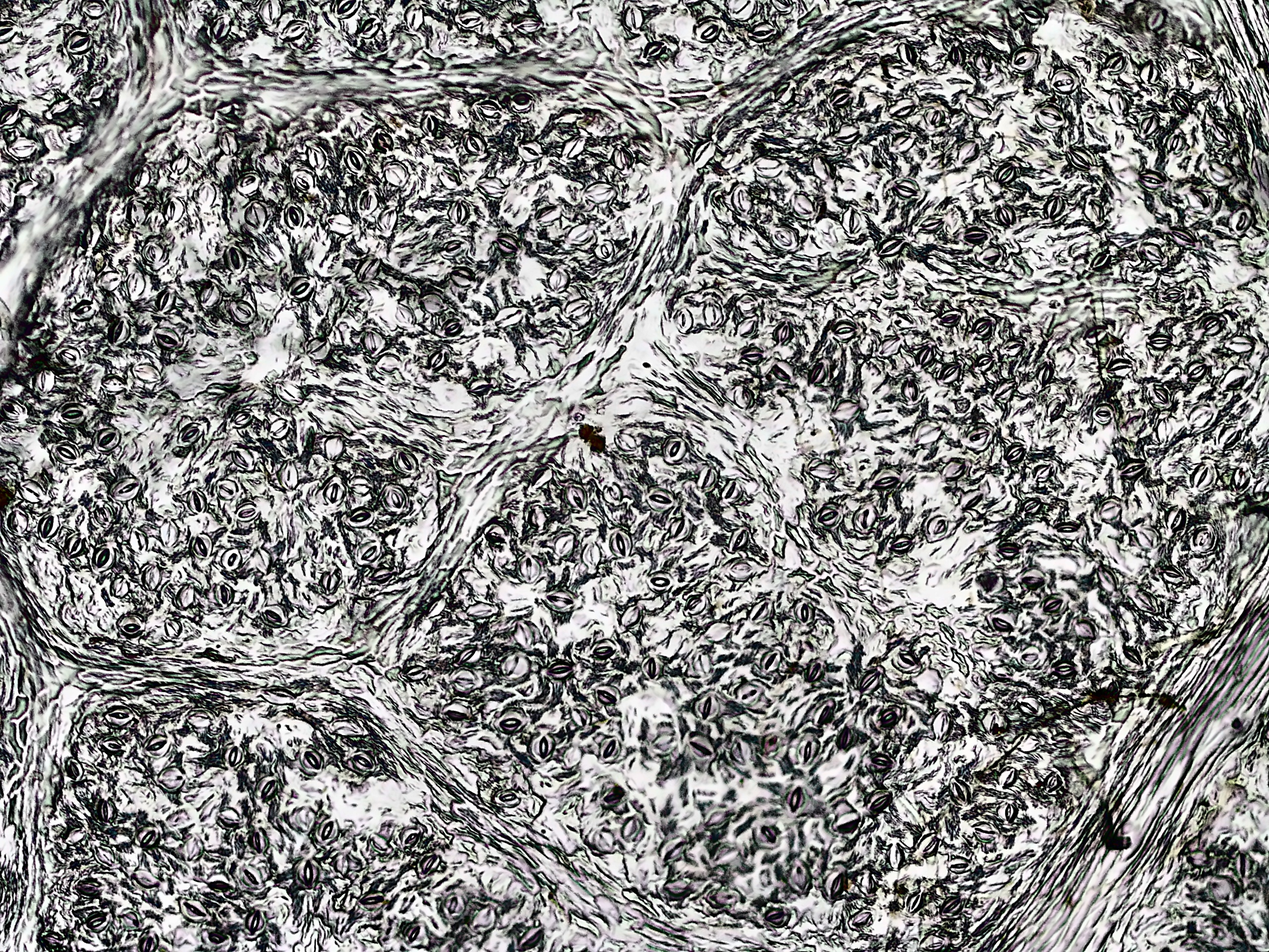stomata: (512, 924, 551, 952), (272, 378, 307, 406), (512, 553, 542, 585), (1011, 44, 1042, 74), (490, 304, 526, 329), (0, 392, 29, 423), (142, 725, 172, 754), (661, 433, 689, 464), (259, 684, 296, 707), (852, 504, 879, 535), (710, 839, 741, 866), (1131, 588, 1161, 615), (789, 858, 812, 893), (748, 21, 780, 46), (474, 177, 510, 199), (655, 834, 685, 860), (585, 178, 616, 203), (753, 153, 784, 178), (543, 590, 578, 612), (108, 478, 140, 502), (1034, 103, 1066, 127), (689, 734, 721, 758), (228, 298, 256, 325), (810, 154, 839, 180), (833, 397, 864, 421), (152, 327, 184, 350), (1189, 463, 1216, 490), (816, 500, 843, 527), (500, 653, 526, 681), (74, 876, 107, 898), (1050, 63, 1075, 92), (562, 481, 587, 510), (644, 486, 675, 509), (925, 510, 948, 541), (466, 601, 503, 620), (143, 239, 169, 266), (239, 862, 264, 890), (894, 41, 922, 66), (1222, 365, 1251, 389), (991, 536, 1020, 560), (599, 735, 623, 764), (786, 785, 810, 814), (1016, 695, 1045, 719), (179, 895, 209, 918), (1096, 497, 1126, 520), (563, 298, 594, 320), (289, 276, 315, 302), (550, 532, 576, 558), (858, 666, 883, 693), (93, 427, 121, 451), (383, 484, 407, 512), (610, 530, 634, 558), (913, 420, 941, 444), (244, 200, 267, 229), (176, 422, 205, 445), (889, 175, 918, 198), (493, 786, 523, 808), (104, 703, 135, 724), (1234, 851, 1255, 882), (357, 256, 382, 282), (1066, 145, 1092, 170), (692, 141, 717, 167), (1216, 422, 1241, 448), (809, 455, 836, 479), (6, 137, 38, 157), (418, 292, 447, 314), (132, 361, 162, 382), (131, 868, 161, 889), (394, 446, 419, 471), (668, 517, 693, 542), (1231, 207, 1255, 233), (1086, 198, 1110, 224), (937, 360, 963, 384), (1186, 404, 1212, 428), (569, 702, 593, 728), (283, 204, 306, 231), (117, 611, 144, 634), (695, 19, 722, 42), (526, 503, 549, 530), (1194, 524, 1217, 551), (966, 97, 994, 119), (437, 238, 471, 256), (373, 352, 402, 373), (325, 475, 346, 504), (93, 795, 114, 824), (832, 813, 861, 834), (871, 470, 903, 489), (1117, 459, 1149, 478), (495, 713, 527, 732), (110, 315, 130, 345), (253, 545, 273, 575), (184, 710, 214, 730), (889, 130, 919, 150), (1231, 463, 1251, 493), (1166, 503, 1186, 533), (532, 730, 552, 760), (1072, 617, 1096, 642), (622, 1, 645, 27), (956, 139, 979, 165), (1170, 90, 1192, 117), (941, 457, 968, 479), (126, 269, 147, 297), (449, 263, 477, 284), (876, 234, 904, 255), (549, 266, 570, 294), (1044, 394, 1065, 422), (445, 701, 473, 722), (198, 281, 218, 310), (1198, 312, 1227, 332), (299, 858, 319, 887), (1096, 564, 1116, 593), (263, 605, 287, 629), (593, 240, 617, 264), (720, 478, 744, 502), (463, 132, 488, 155), (161, 765, 184, 790), (701, 298, 724, 323), (967, 424, 990, 449), (652, 728, 678, 750), (165, 195, 184, 225), (1168, 228, 1198, 247), (126, 198, 147, 225), (183, 832, 204, 859), (977, 246, 1004, 267), (595, 682, 622, 703), (732, 738, 753, 765), (516, 139, 544, 159), (448, 197, 468, 225), (17, 479, 45, 499), (67, 30, 91, 53), (257, 0, 280, 24), (1041, 195, 1064, 219), (772, 321, 795, 345), (454, 667, 477, 691), (889, 532, 913, 555), (614, 142, 633, 171), (278, 458, 297, 487), (245, 907, 264, 936), (994, 162, 1016, 187), (749, 599, 774, 621), (1121, 644, 1143, 669), (868, 789, 893, 811), (101, 371, 127, 392), (61, 825, 87, 846), (582, 542, 603, 568), (1001, 442, 1027, 463), (815, 700, 836, 726), (844, 206, 861, 238), (344, 147, 364, 174), (129, 163, 149, 190), (8, 509, 28, 536), (258, 775, 278, 802), (205, 875, 235, 893), (58, 125, 86, 144), (39, 512, 58, 540), (141, 561, 160, 589), (347, 507, 375, 526), (932, 709, 951, 737), (950, 778, 969, 806), (1143, 241, 1166, 264), (924, 106, 948, 128), (529, 465, 553, 487), (728, 526, 750, 550), (707, 805, 731, 827), (384, 164, 409, 185), (71, 299, 96, 320), (1147, 5, 1168, 30), (1207, 162, 1232, 183), (760, 649, 781, 674), (1227, 335, 1256, 353), (307, 147, 327, 173), (645, 572, 672, 591), (826, 872, 845, 899), (561, 135, 583, 158), (358, 539, 380, 562), (996, 203, 1018, 226), (791, 193, 813, 216), (973, 821, 996, 843), (328, 212, 352, 233), (466, 373, 490, 394), (95, 545, 113, 573), (916, 215, 944, 233), (614, 429, 635, 453), (601, 482, 622, 506), (739, 683, 763, 704), (81, 221, 101, 246), (1187, 355, 1207, 380), (961, 225, 992, 241), (588, 641, 619, 657), (456, 9, 482, 28), (321, 568, 340, 594), (101, 734, 127, 753), (734, 382, 753, 408), (1152, 383, 1171, 409), (547, 661, 573, 680), (332, 0, 361, 17), (227, 245, 244, 274), (187, 488, 205, 515), (1161, 286, 1188, 304), (1106, 357, 1133, 375), (497, 232, 519, 254), (220, 547, 242, 569), (300, 750, 322, 772), (307, 338, 328, 361), (231, 446, 252, 469), (773, 82, 796, 103), (455, 644, 478, 665), (996, 765, 1017, 788), (941, 895, 964, 916), (54, 441, 78, 461), (438, 164, 458, 188), (829, 89, 853, 109), (810, 358, 830, 382), (994, 378, 1018, 398), (958, 487, 982, 507), (514, 619, 534, 643), (682, 594, 706, 614), (922, 932, 946, 952), (198, 179, 215, 207), (326, 433, 343, 461), (161, 518, 178, 546), (176, 581, 193, 609), (357, 891, 385, 908), (283, 20, 308, 39), (363, 330, 382, 355), (194, 533, 213, 558), (1148, 332, 1173, 351), (379, 205, 397, 231), (1139, 171, 1165, 189), (1102, 50, 1124, 71), (836, 122, 857, 144), (765, 906, 787, 927), (266, 418, 289, 438), (216, 478, 236, 501), (694, 695, 717, 715), (556, 106, 583, 123), (1054, 520, 1081, 537), (1160, 567, 1187, 584), (235, 501, 259, 520), (1109, 91, 1128, 115), (404, 663, 428, 682), (621, 603, 640, 627), (805, 658, 824, 682), (222, 743, 240, 768), (1041, 595, 1066, 613), (801, 738, 817, 766), (888, 840, 904, 868), (219, 128, 236, 154), (359, 188, 376, 214), (1138, 58, 1155, 84), (642, 653, 659, 679), (359, 15, 380, 36), (93, 844, 114, 865), (140, 931, 161, 952), (99, 271, 121, 291), (230, 408, 252, 428), (1187, 189, 1209, 209), (1093, 402, 1113, 424), (425, 597, 447, 617), (251, 828, 270, 851), (834, 322, 857, 341), (482, 524, 505, 543), (761, 821, 780, 844), (62, 406, 86, 424), (130, 526, 146, 553), (1002, 337, 1026, 355), (696, 464, 714, 488), (350, 753, 374, 771), (212, 14, 229, 39), (407, 5, 424, 30), (375, 128, 392, 153), (419, 113, 436, 138), (66, 534, 83, 559), (675, 309, 692, 334), (602, 786, 627, 803), (138, 826, 158, 847), (640, 42, 668, 57), (770, 362, 790, 383), (60, 345, 82, 364), (772, 230, 794, 249), (318, 819, 337, 841), (897, 649, 919, 668), (691, 653, 710, 675), (157, 289, 173, 315), (218, 582, 234, 608), (87, 82, 110, 100), (511, 92, 534, 110), (571, 225, 594, 243), (395, 303, 413, 326), (93, 502, 111, 525), (35, 367, 52, 391), (216, 809, 240, 826), (735, 293, 759, 310), (989, 663, 1013, 680), (735, 185, 748, 216), (1, 17, 17, 42), (86, 911, 106, 931), (938, 309, 963, 325), (973, 317, 993, 337), (1022, 569, 1042, 589), (919, 833, 939, 853), (238, 172, 259, 191), (349, 475, 370, 494), (738, 315, 757, 336), (797, 601, 816, 622), (597, 830, 616, 851), (65, 757, 83, 779), (406, 924, 424, 946), (947, 856, 969, 874), (82, 0, 105, 17), (40, 930, 63, 947), (892, 98, 915, 115), (420, 854, 437, 877), (515, 16, 541, 31), (204, 929, 228, 945), (50, 97, 70, 116), (1140, 114, 1159, 134), (1035, 462, 1054, 482), (852, 909, 871, 929), (1, 102, 19, 123), (371, 564, 392, 582), (880, 337, 898, 358), (903, 377, 918, 402), (477, 99, 499, 116), (111, 575, 128, 597), (1051, 731, 1073, 748), (540, 207, 563, 223), (907, 890, 923, 913), (1086, 324, 1105, 343), (12, 179, 36, 194), (163, 618, 181, 638), (772, 0, 796, 15), (948, 45, 963, 69), (1167, 129, 1182, 153), (665, 879, 689, 894), (1092, 250, 1109, 271), (975, 354, 996, 371), (917, 345, 934, 366), (870, 753, 892, 769), (1001, 802, 1016, 825), (1212, 123, 1230, 142), (743, 344, 762, 362), (994, 614, 1013, 632), (429, 351, 446, 371), (1022, 497, 1042, 514), (292, 174, 313, 190), (172, 153, 187, 175), (839, 725, 852, 750), (121, 911, 140, 928), (1044, 772, 1061, 791), (1039, 362, 1053, 385), (446, 895, 461, 916), (1052, 661, 1076, 674), (861, 870, 875, 892), (402, 830, 420, 847), (987, 711, 1000, 733), (879, 710, 898, 725), (972, 54, 987, 71), (1024, 4, 1042, 18), (444, 318, 458, 334)
